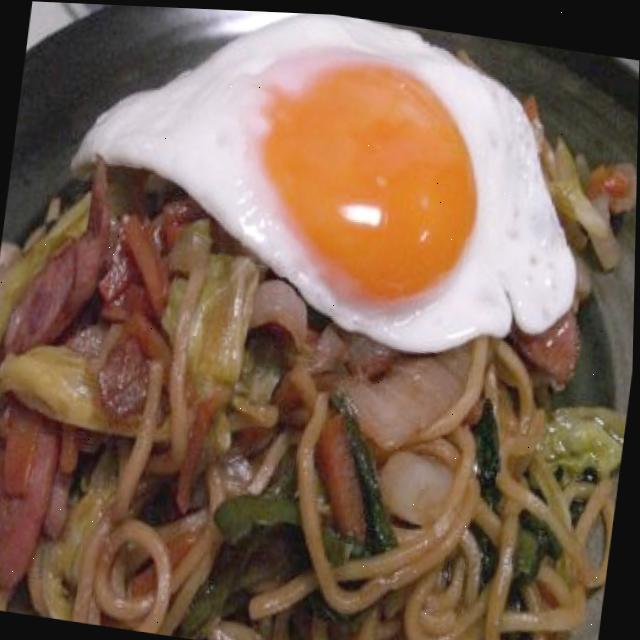鸡蛋料理: (45, 2, 586, 333)
